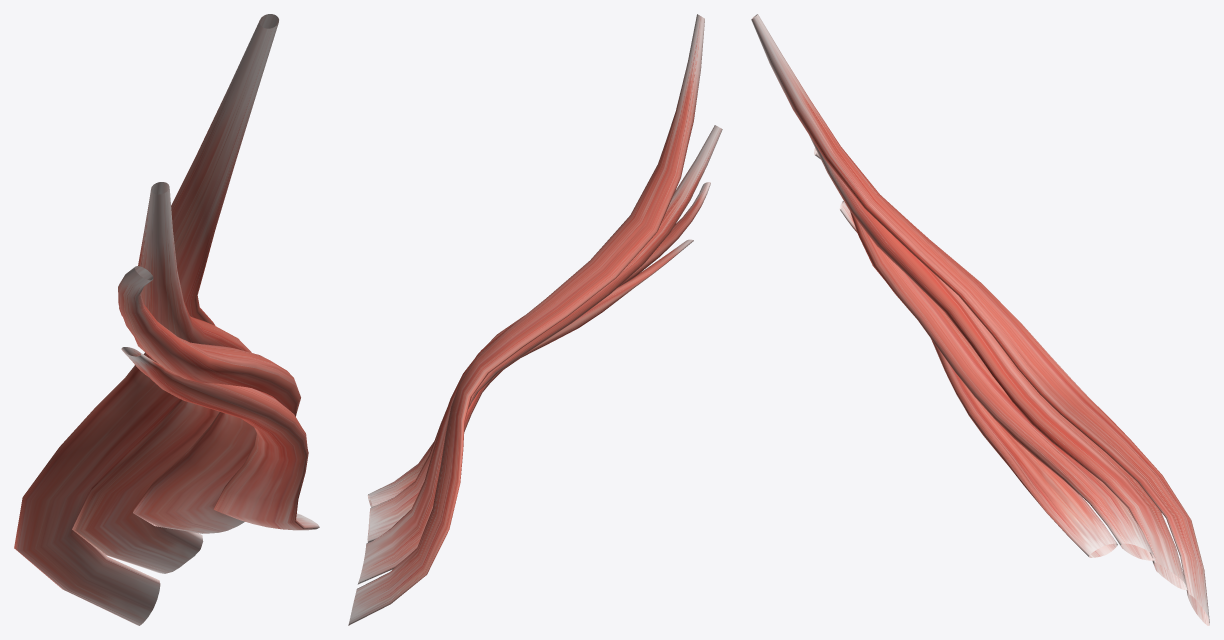
Rendered from Levator_Scapulae_Muscle_Left.obj.
3 views of the same model, side by side, from view 1: azimuth 30°, elevation 25°; view 2: azimuth 150°, elevation 25°; view 3: azimuth 270°, elevation 25° (orthographic). The views are drawn at different scales.
Parts seen in each view (by area): view 1: Levator_Scapulae_Muscle_Left_01:Levator_Scapulae_Muscle_01_Left1, Levator_Scapulae_Muscle_Left_02:Levator_Scapulae_Muscle_02_Left1, Levator_Scapulae_Muscle_Left_03:Levator_Scapulae_Muscle_03_Left1, Levator_Scapulae_Muscle_Left_04:Levator_Scapulae_Muscle_04_Left1; view 2: Levator_Scapulae_Muscle_Left_01:Levator_Scapulae_Muscle_01_Left1, Levator_Scapulae_Muscle_Left_02:Levator_Scapulae_Muscle_02_Left1, Levator_Scapulae_Muscle_Left_03:Levator_Scapulae_Muscle_03_Left1, Levator_Scapulae_Muscle_Left_04:Levator_Scapulae_Muscle_04_Left1; view 3: Levator_Scapulae_Muscle_Left_01:Levator_Scapulae_Muscle_01_Left1, Levator_Scapulae_Muscle_Left_02:Levator_Scapulae_Muscle_02_Left1, Levator_Scapulae_Muscle_Left_03:Levator_Scapulae_Muscle_03_Left1, Levator_Scapulae_Muscle_Left_04:Levator_Scapulae_Muscle_04_Left1.
Part boxes in pixels (x1,y1,x2,y2): Levator_Scapulae_Muscle_Left_01:Levator_Scapulae_Muscle_01_Left1: [14, 14, 278, 625]; Levator_Scapulae_Muscle_Left_02:Levator_Scapulae_Muscle_02_Left1: [72, 182, 251, 573]; Levator_Scapulae_Muscle_Left_03:Levator_Scapulae_Muscle_03_Left1: [118, 266, 300, 533]; Levator_Scapulae_Muscle_Left_04:Levator_Scapulae_Muscle_04_Left1: [121, 347, 319, 530]; Levator_Scapulae_Muscle_Left_01:Levator_Scapulae_Muscle_01_Left1: [348, 14, 704, 625]; Levator_Scapulae_Muscle_Left_02:Levator_Scapulae_Muscle_02_Left1: [357, 125, 722, 584]; Levator_Scapulae_Muscle_Left_03:Levator_Scapulae_Muscle_03_Left1: [367, 182, 710, 543]; Levator_Scapulae_Muscle_Left_04:Levator_Scapulae_Muscle_04_Left1: [367, 239, 693, 507]; Levator_Scapulae_Muscle_Left_01:Levator_Scapulae_Muscle_01_Left1: [751, 14, 1209, 625]; Levator_Scapulae_Muscle_Left_02:Levator_Scapulae_Muscle_02_Left1: [809, 135, 1187, 589]; Levator_Scapulae_Muscle_Left_03:Levator_Scapulae_Muscle_03_Left1: [814, 148, 1155, 560]; Levator_Scapulae_Muscle_Left_04:Levator_Scapulae_Muscle_04_Left1: [839, 201, 1117, 557].
Size of the model in its own units: 0.8448 by 1.81 by 1.41.
